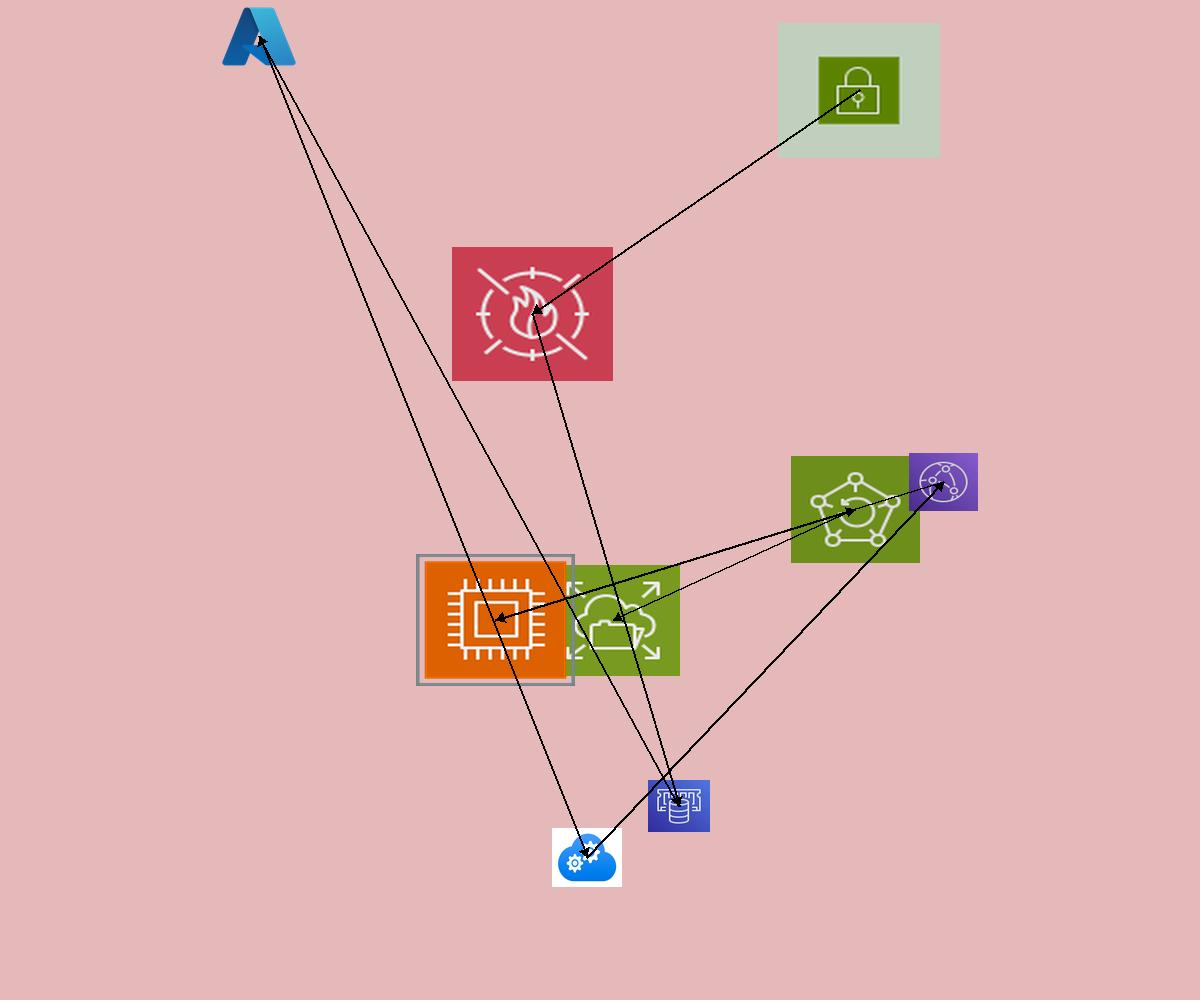AWS-Backup: (791, 456, 920, 563)
AWS-Category_Compute: (416, 554, 575, 686)
AWS-CloudFront: (909, 453, 978, 511)
AWS-EFS: (546, 565, 680, 676)
AWS-ElastiCache: (648, 780, 710, 832)
AWS-Public-subnet: (778, 23, 940, 158)
AWS-WAF: (452, 247, 613, 381)
Azure_cloud_services: (552, 828, 622, 887)
Azure_services: (219, 3, 299, 70)
